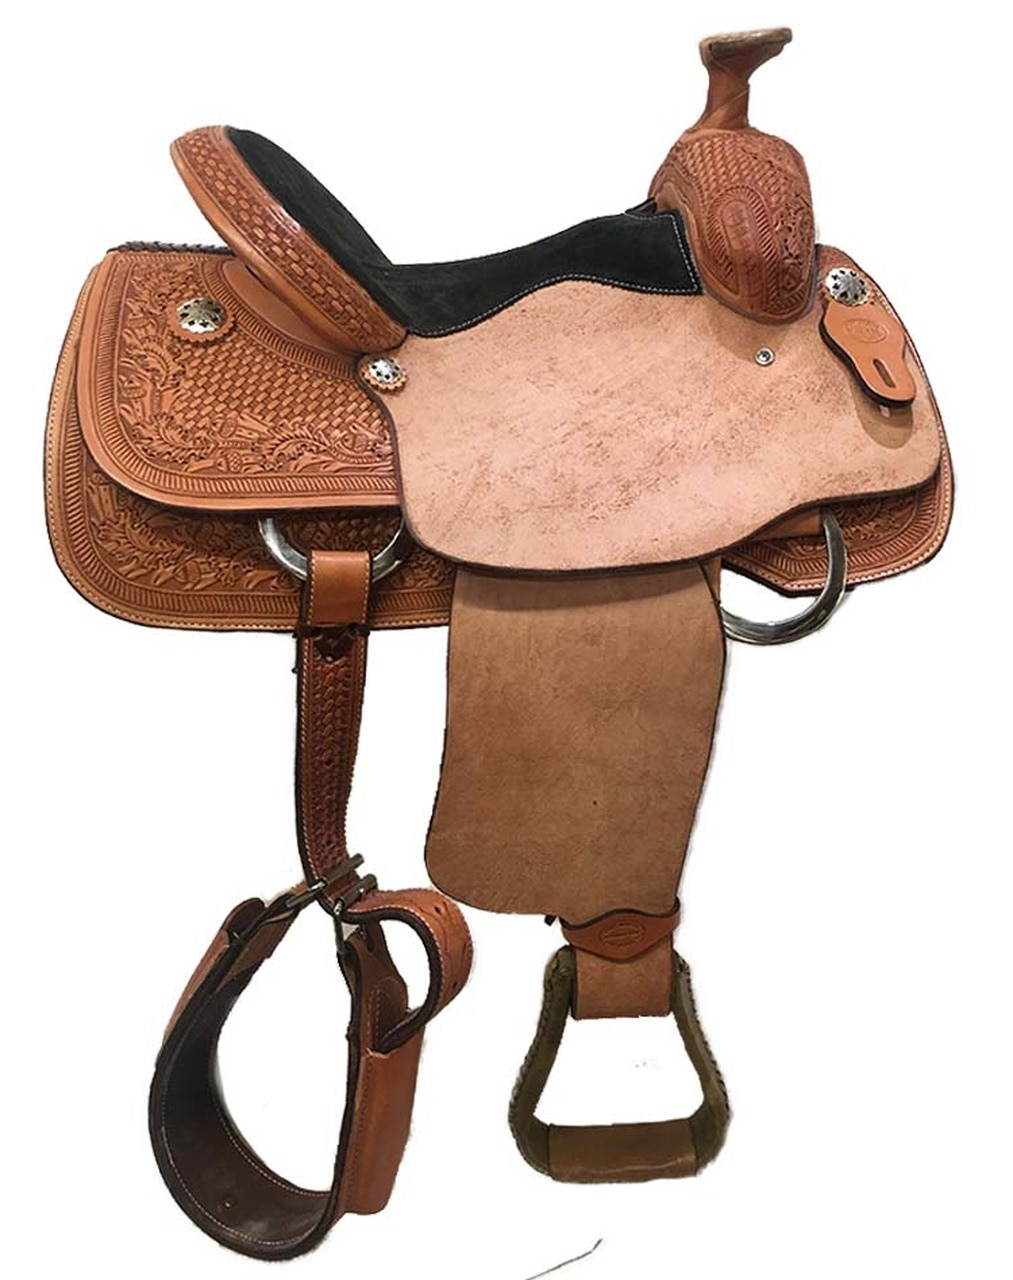saddle: (46, 54, 968, 1059)
